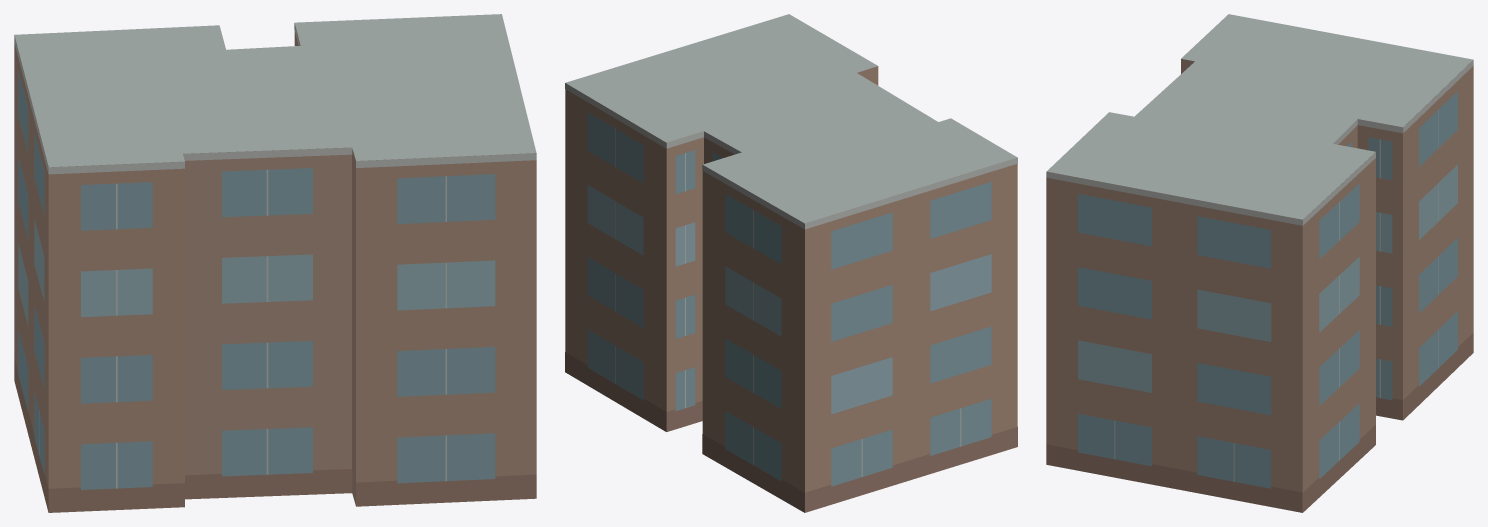
File: survey-upis-32523707.glb
3 views of the same model, side by side, from view 1: azimuth 30°, elevation 25°; view 2: azimuth 150°, elevation 25°; view 3: azimuth 270°, elevation 25° (orthographic). The views are drawn at different scales.
Parts seen in each view (by area): view 1: survey-upis-32523707.tmp; view 2: survey-upis-32523707.tmp; view 3: survey-upis-32523707.tmp.
Boxes of the visible parts, x1,y1,x2,y2 form: survey-upis-32523707.tmp: (14,14,536,512); survey-upis-32523707.tmp: (565,14,1017,512); survey-upis-32523707.tmp: (1046,14,1473,512).
Size of the model in its own units: 17.69 by 11.75 by 15.52.
